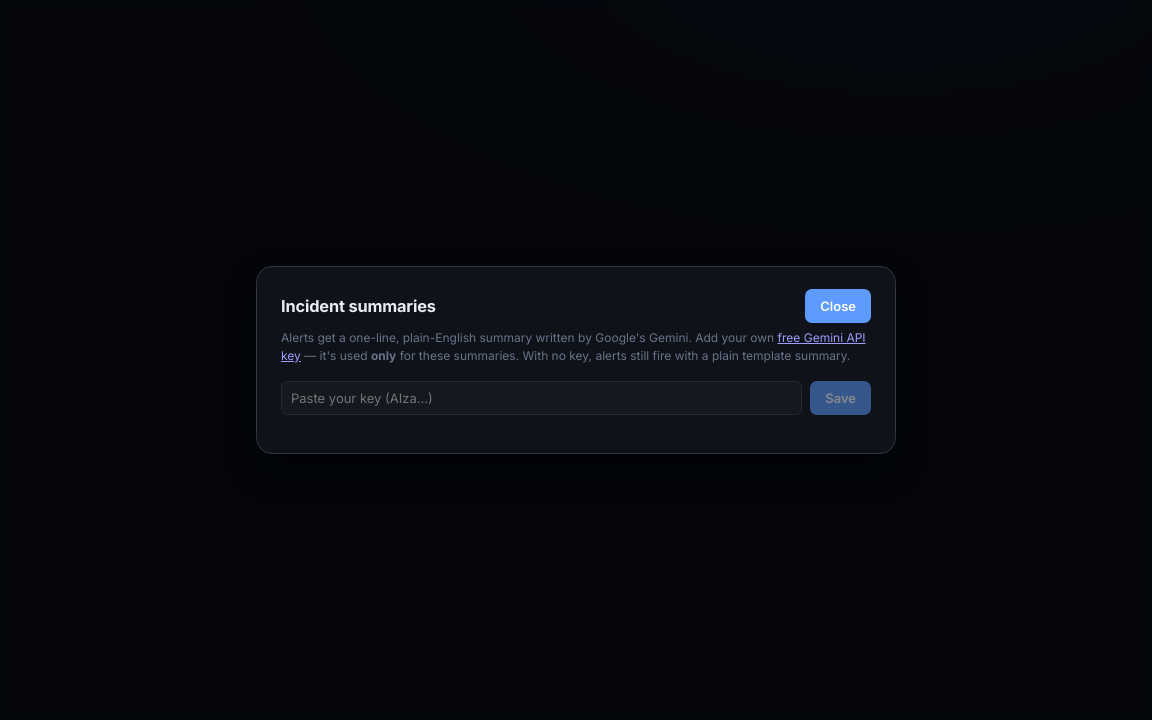
Test: SummarizerKeyPanel › shows an inline error when the key is rejected
Type "short" into the password field named "gemini api key" at (542, 398), box [281, 381, 802, 415]
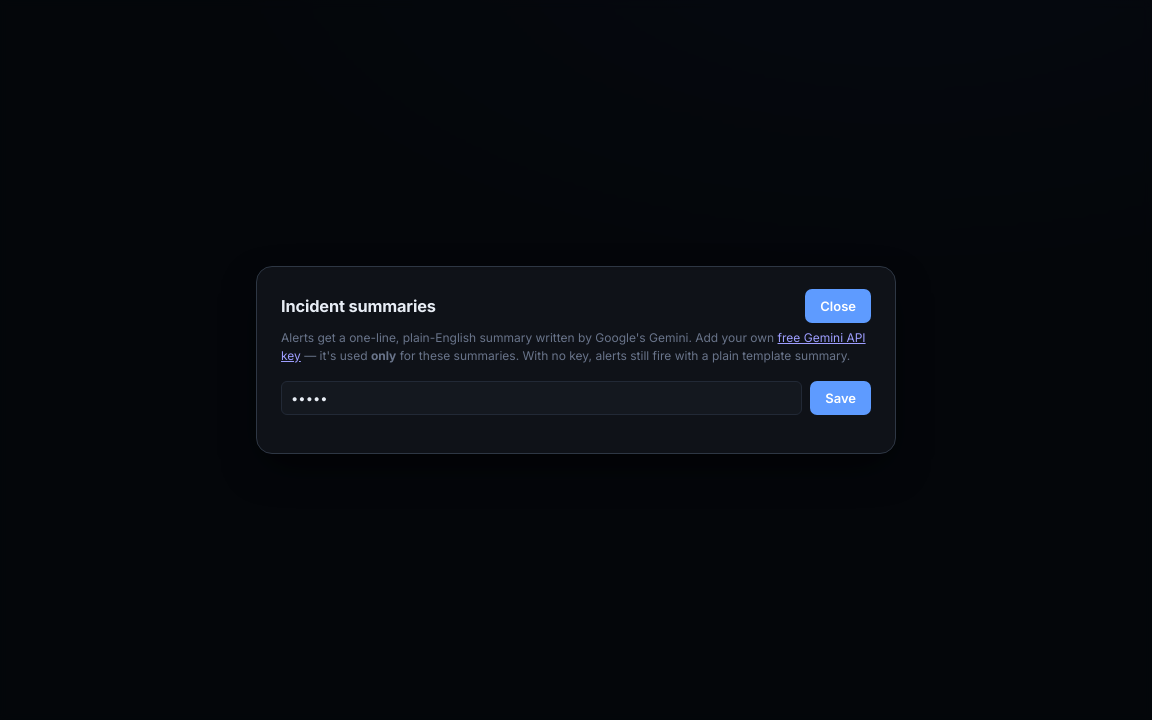
Click the button "Save" at (841, 398), box [810, 381, 871, 415]
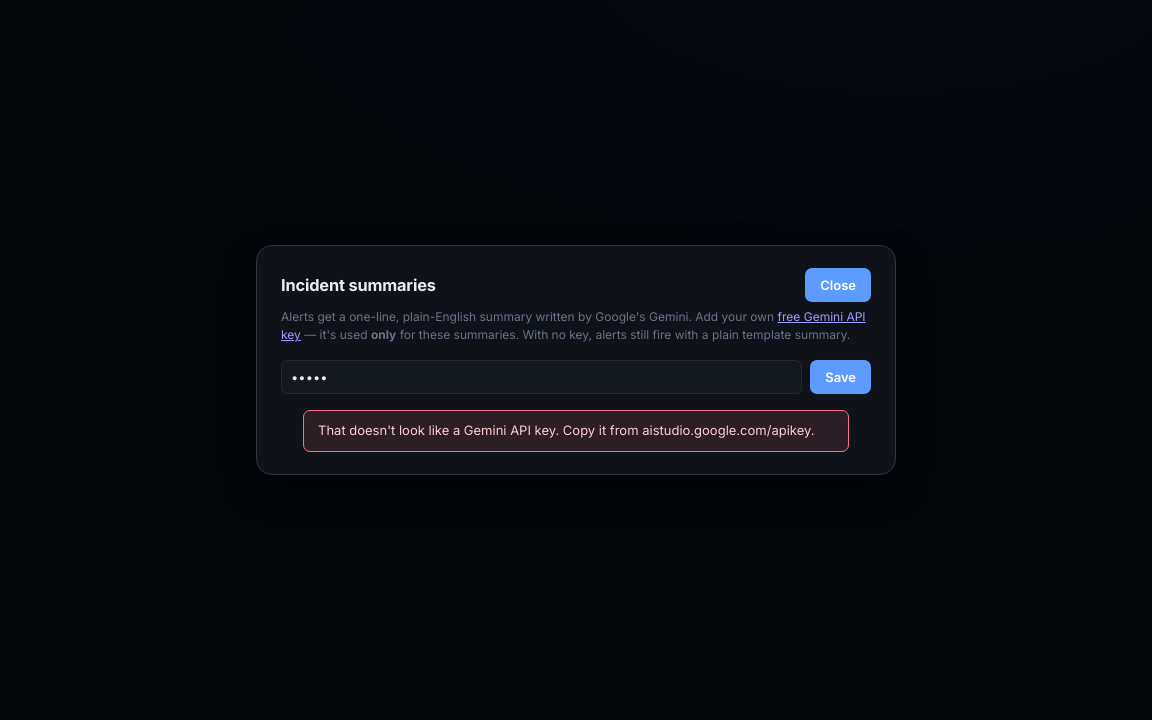
Check: the text "doesn't look like a Gemini API key" is shown, box [318, 422, 814, 438]
